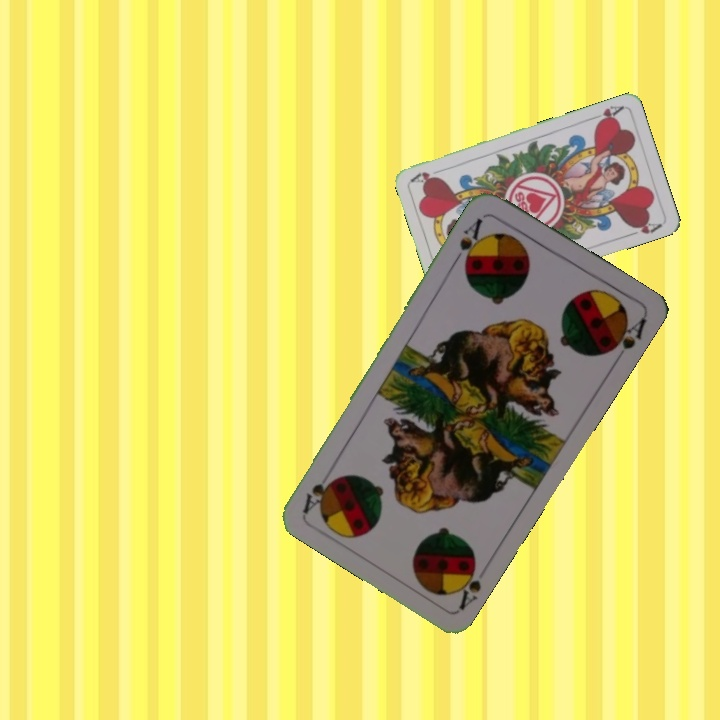HA: (587, 101, 626, 127)
SA: (448, 552, 484, 613), (450, 213, 488, 270)
